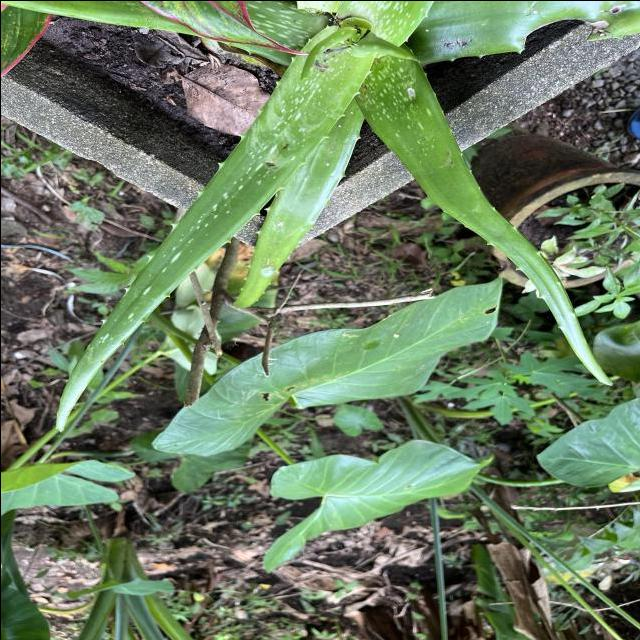Aloe vera: (42, 32, 366, 432), (356, 50, 616, 388)
